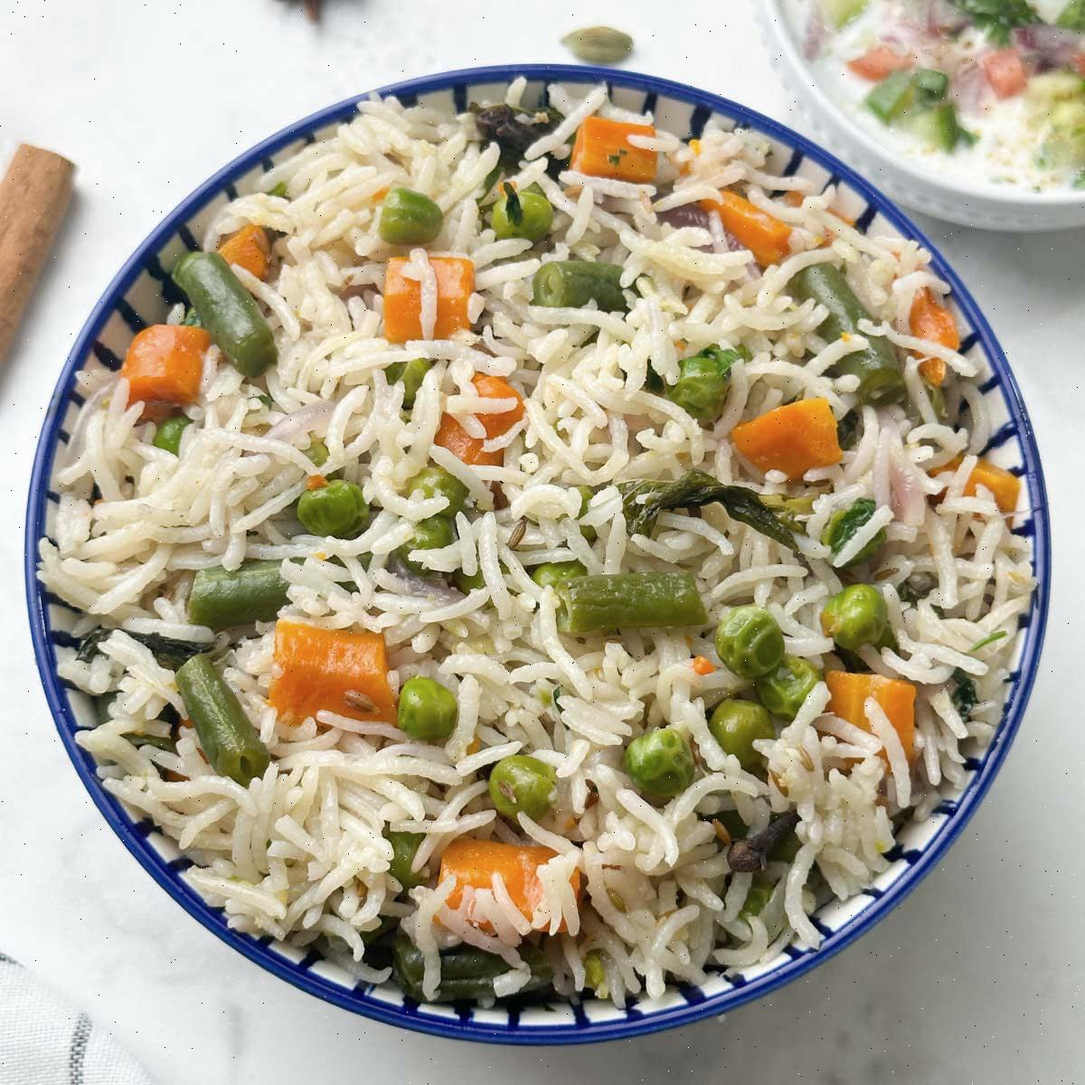veg-pulao: (110, 164, 969, 945)
